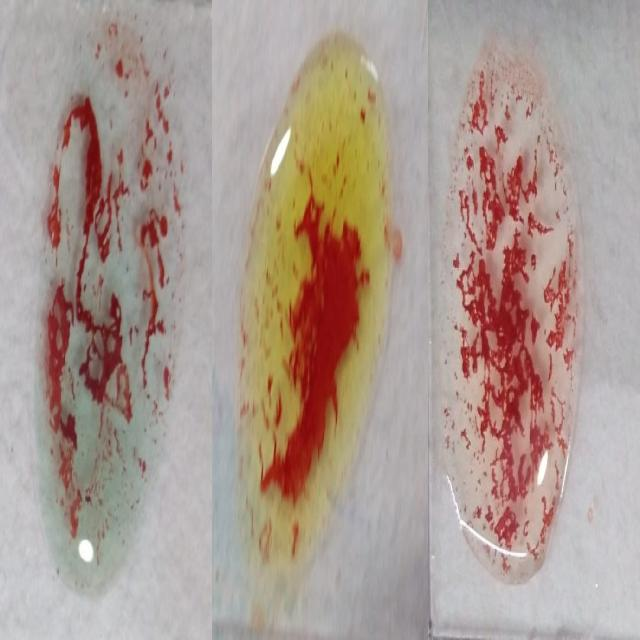A: (35, 21, 174, 589)
B: (241, 39, 387, 578)
D: (436, 45, 582, 584)
